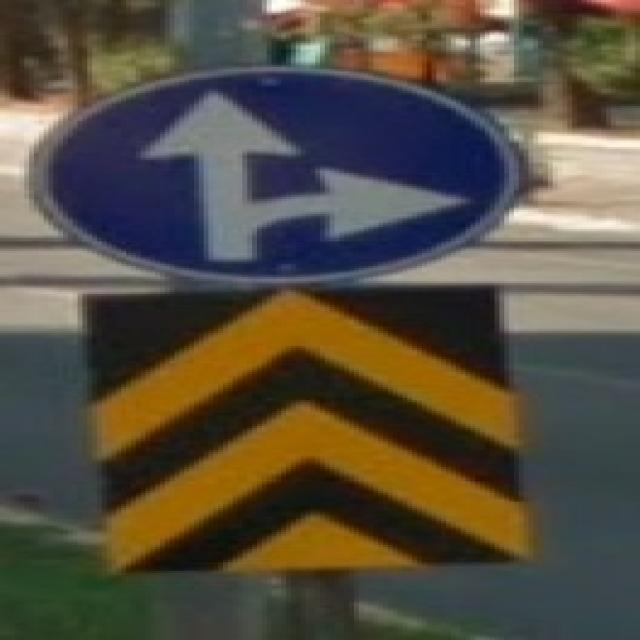Straight or Right: (28, 72, 527, 280)
